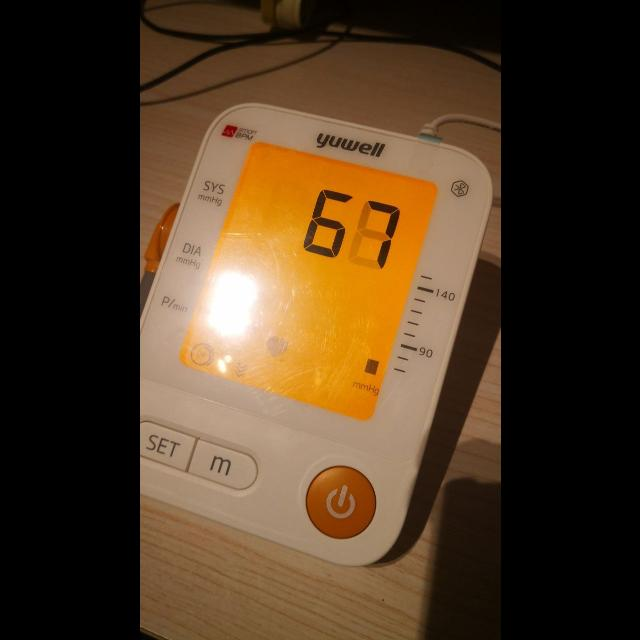Blood-Pressure-Monitor: (140, 102, 494, 570)
